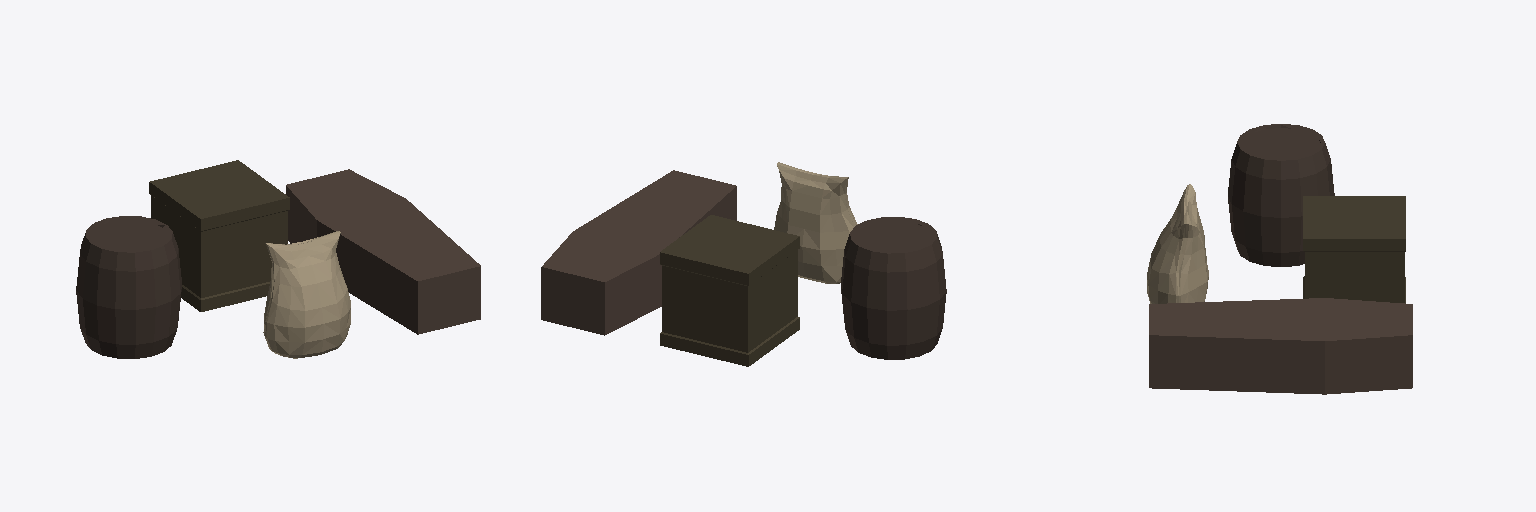
The model's file is Barrel_Boxes_Grain_Sack.obj.
3 views of the same model, side by side, from view 1: azimuth 30°, elevation 25°; view 2: azimuth 150°, elevation 25°; view 3: azimuth 270°, elevation 25° (orthographic).
Parts seen in each view (by area): view 1: Mesh4 CoffinBox01_1 Model, Mesh3 SquareBox01_1 Model, Mesh2 Barrel1 Model, Mesh1 GrainSack01_1 Model; view 2: Mesh3 SquareBox01_1 Model, Mesh4 CoffinBox01_1 Model, Mesh2 Barrel1 Model, Mesh1 GrainSack01_1 Model; view 3: Mesh4 CoffinBox01_1 Model, Mesh2 Barrel1 Model, Mesh3 SquareBox01_1 Model, Mesh1 GrainSack01_1 Model.
Part boxes in pixels (left/top/right/bottom): Mesh4 CoffinBox01_1 Model: left=286, top=169, right=480, bottom=334; Mesh3 SquareBox01_1 Model: left=149, top=160, right=289, bottom=311; Mesh2 Barrel1 Model: left=76, top=216, right=181, bottom=358; Mesh1 GrainSack01_1 Model: left=263, top=231, right=350, bottom=358; Mesh3 SquareBox01_1 Model: left=660, top=215, right=799, bottom=366; Mesh4 CoffinBox01_1 Model: left=541, top=170, right=736, bottom=335; Mesh2 Barrel1 Model: left=841, top=217, right=946, bottom=359; Mesh1 GrainSack01_1 Model: left=774, top=162, right=857, bottom=283; Mesh4 CoffinBox01_1 Model: left=1149, top=298, right=1412, bottom=394; Mesh2 Barrel1 Model: left=1228, top=124, right=1334, bottom=266; Mesh3 SquareBox01_1 Model: left=1303, top=196, right=1405, bottom=303; Mesh1 GrainSack01_1 Model: left=1147, top=184, right=1208, bottom=303.
Bounding box in the file's own units: 2.71 × 0.8233 × 1.82.